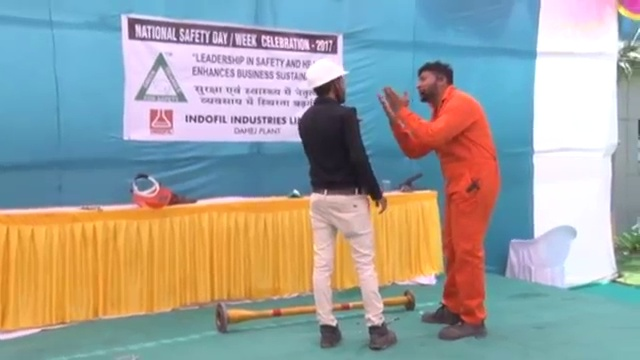helmet: (304, 59, 349, 90)
helmet_off: (416, 60, 455, 102)
helmet_on: (303, 59, 350, 104)
person: (381, 56, 499, 338), (287, 54, 397, 348)
